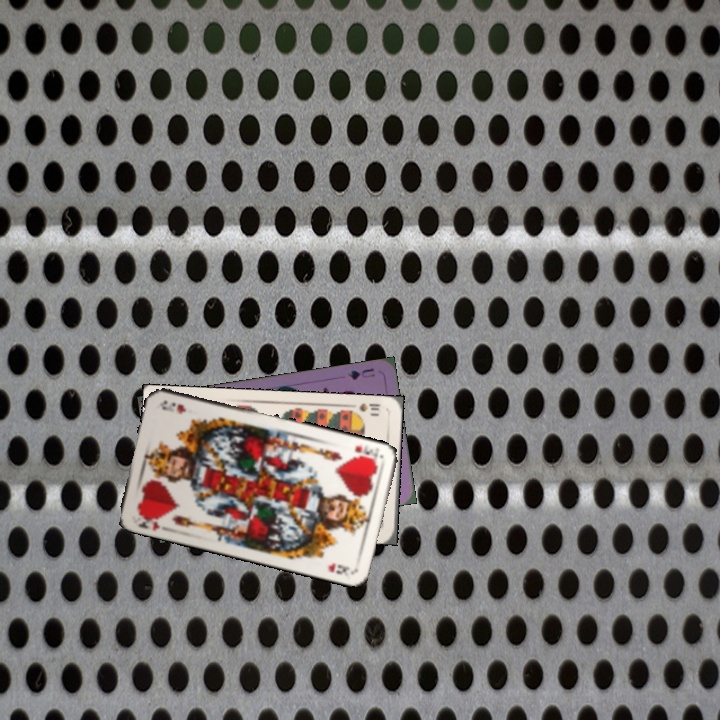GU: (344, 364, 378, 383)
HK: (133, 509, 165, 533), (350, 441, 382, 463)
S10: (346, 399, 383, 417)
